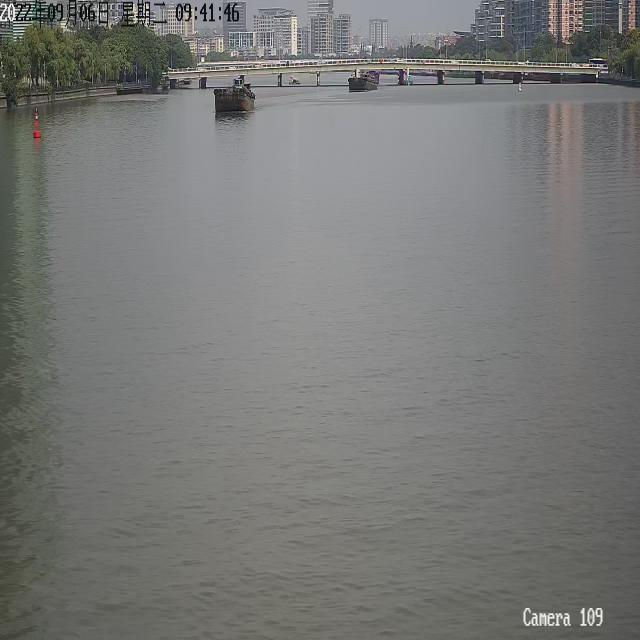ship: (213, 78, 255, 110), (348, 73, 377, 90), (365, 70, 379, 84), (288, 74, 300, 83)
